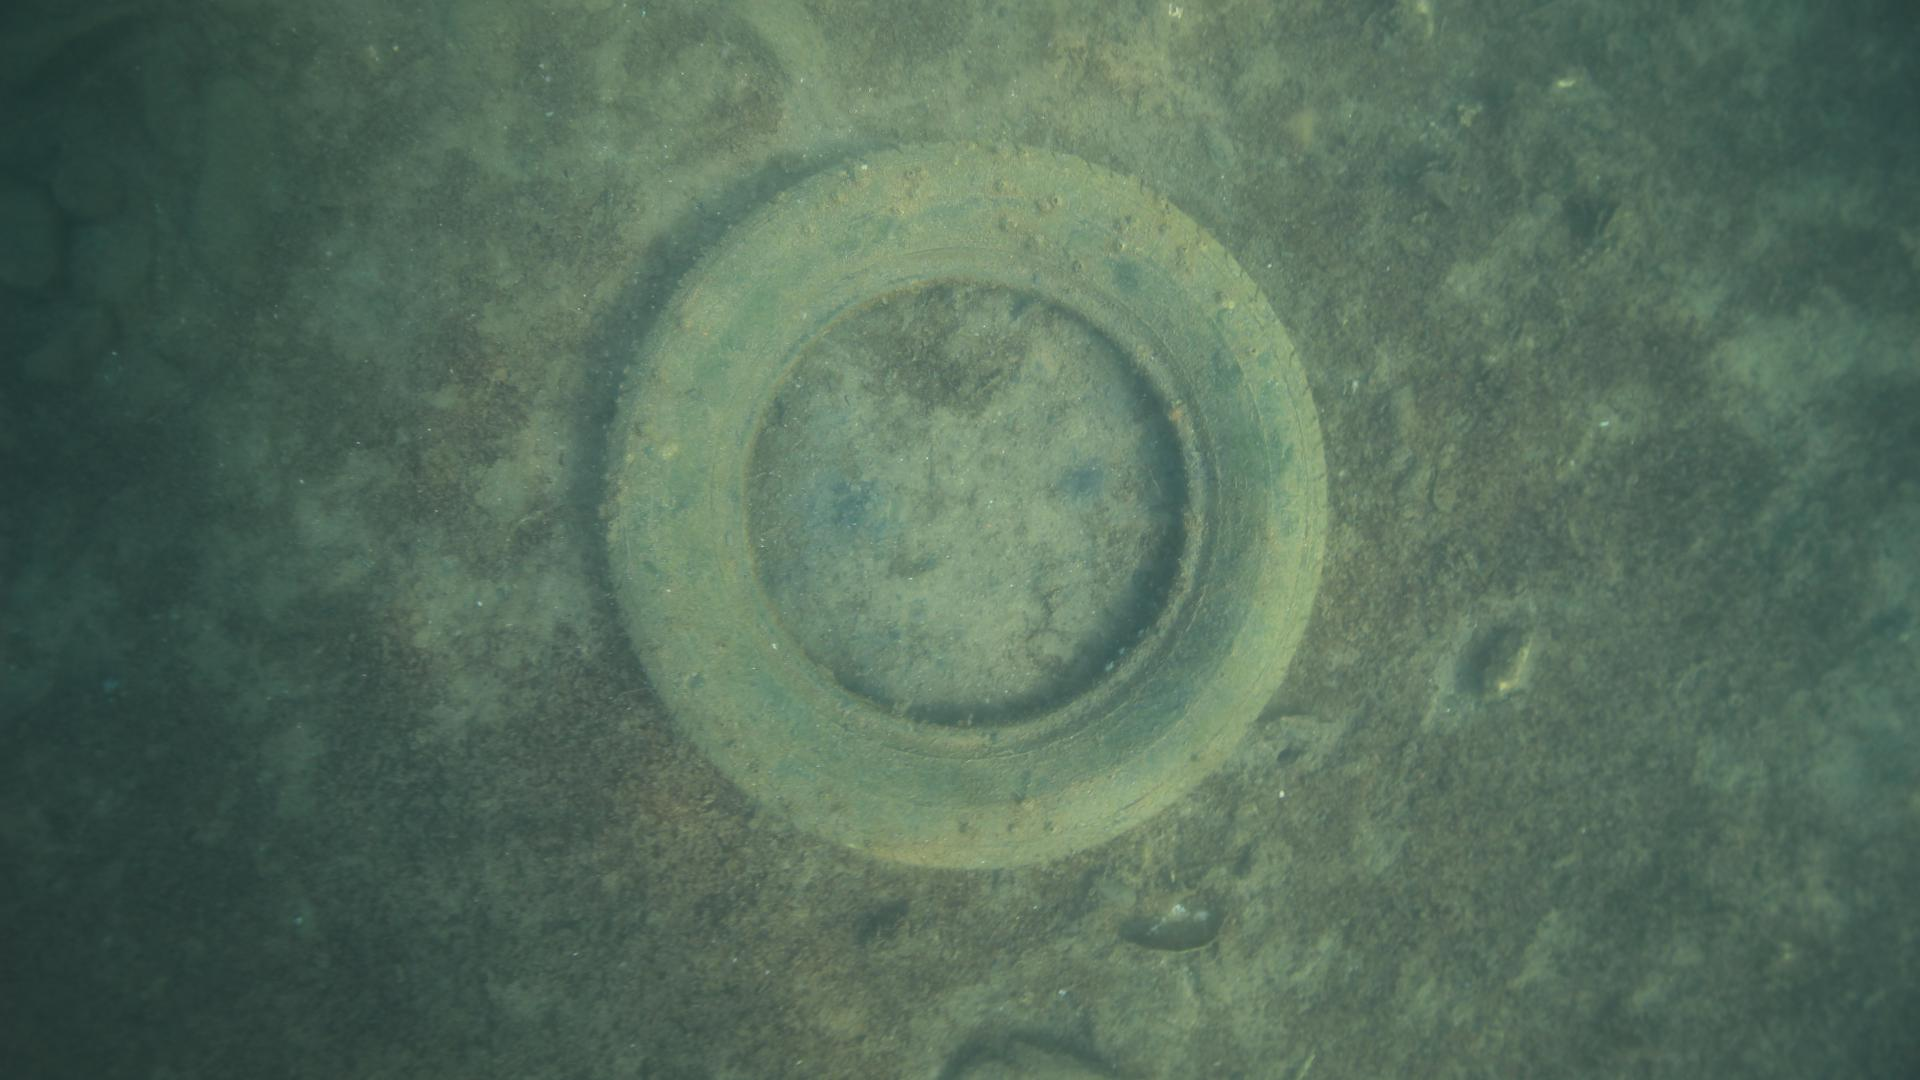tire: (603, 142, 1329, 873)
